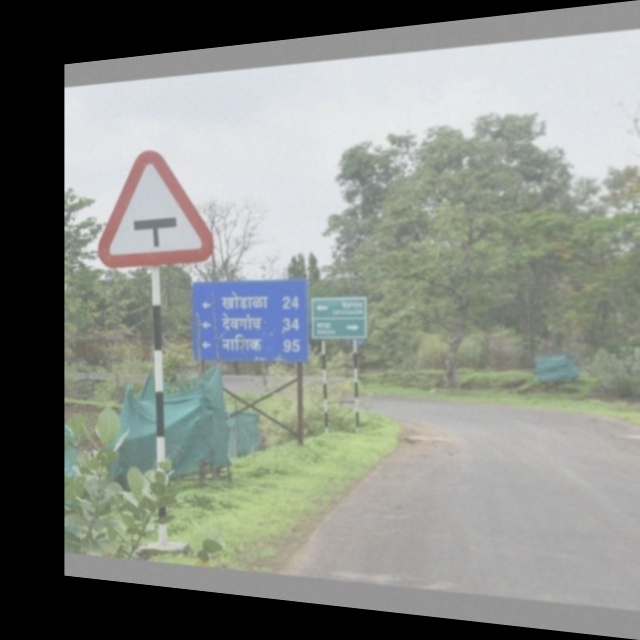T_Intersection: (99, 138, 220, 273)
